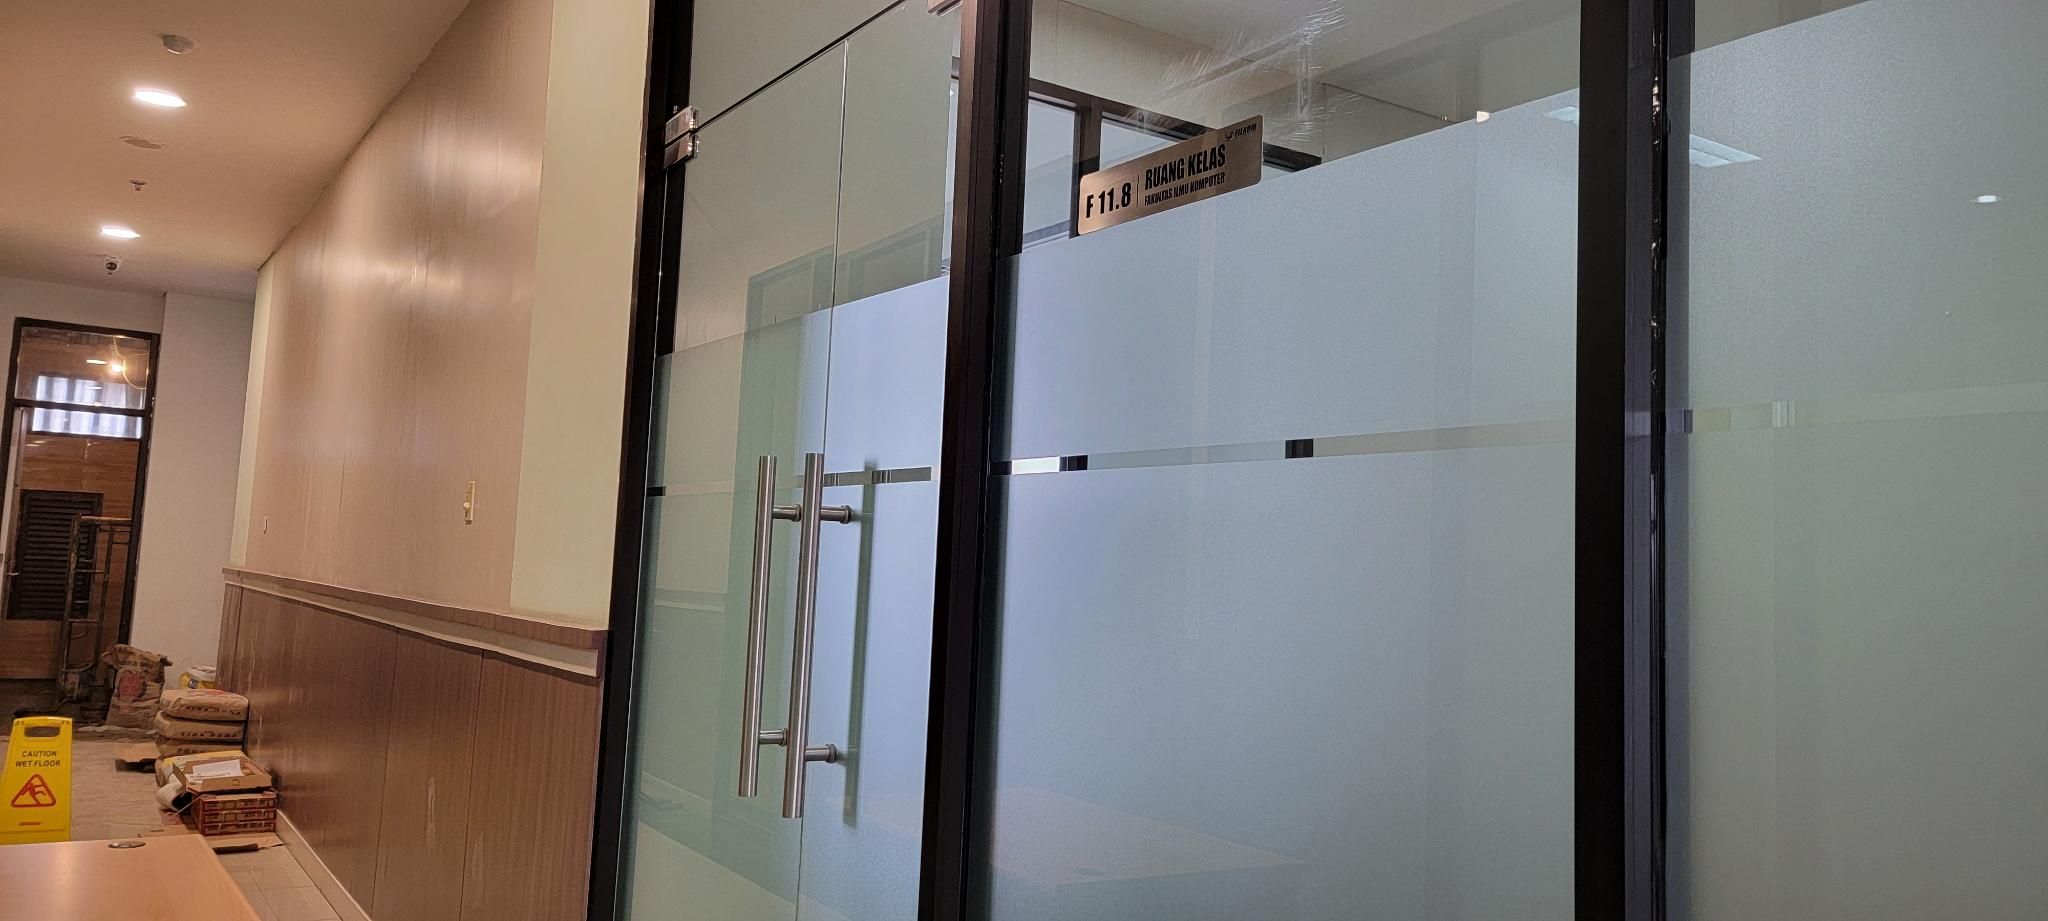plate: (1076, 112, 1264, 236)
